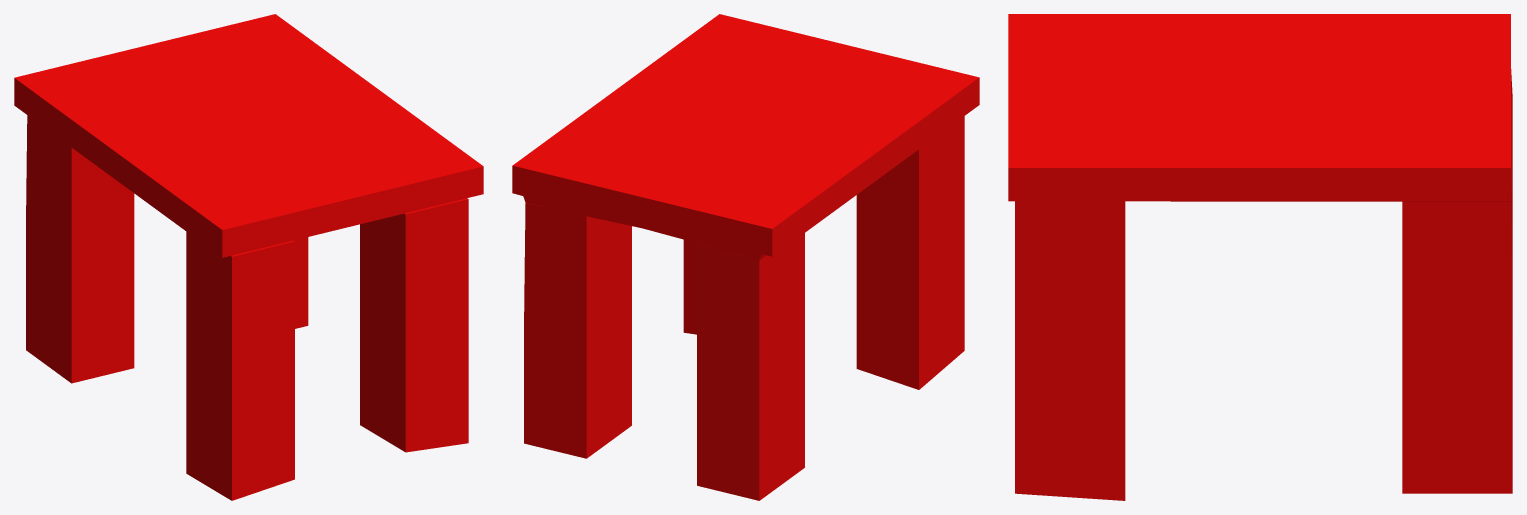
Rendered from desk.FBX.
3 renders of one model, left to right at view 1: azimuth 30°, elevation 25°; view 2: azimuth 150°, elevation 25°; view 3: azimuth 270°, elevation 25°, orthographic. The views are drawn at different scales.
Visible parts, largest first — view 1: Box002; view 2: Box002; view 3: Box002.
Boxes of the visible parts, x1,y1,x2,y2 form: Box002: (14,14,483,500); Box002: (512,14,979,500); Box002: (1008,14,1512,500).
Bounding box in the file's own units: 68.21 × 70.33 × 94.46.
